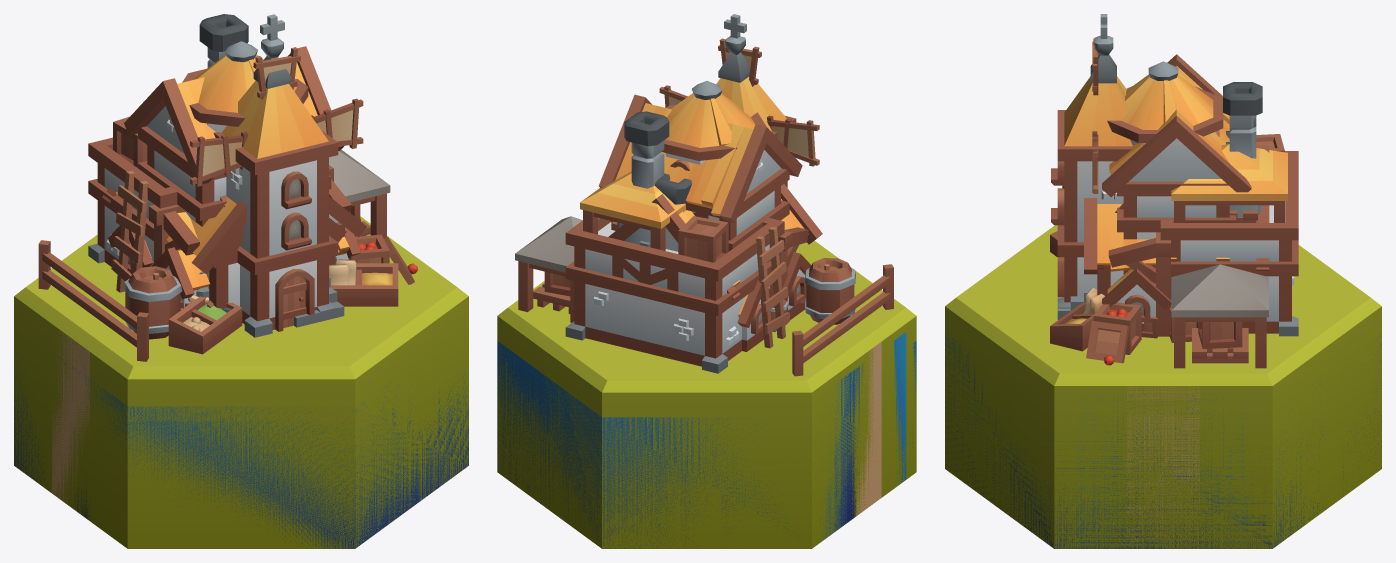
File: hex.glb
3 views of the same model, side by side, from view 1: azimuth 30°, elevation 25°; view 2: azimuth 150°, elevation 25°; view 3: azimuth 270°, elevation 25° (orthographic). The views are drawn at different scales.
Parts seen in each view (by area): view 1: hex_grass, hex_river_A, building_church_yellow, building_market_yellow, hex_water, hex_road_A, building_home_B_yellow, building_windmill_top_fan_yellow, building_windmill_top_yellow, building_home_A_yellow; view 2: hex_grass, hex_river_A, building_market_yellow, hex_water, building_home_B_yellow, building_church_yellow, hex_road_A, building_windmill_top_yellow, building_windmill_top_fan_yellow, building_home_A_yellow; view 3: hex_grass, hex_river_A, building_market_yellow, hex_road_A, building_church_yellow, building_home_B_yellow, hex_water, building_windmill_top_yellow, building_windmill_top_fan_yellow, building_windmill_yellow.
Part boxes in pixels (x1=…): hex_grass: x1=14, y1=218, x2=468, y2=548; hex_river_A: x1=14, y1=235, x2=468, y2=548; building_church_yellow: x1=102, y1=14, x2=366, y2=337; building_market_yellow: x1=38, y1=116, x2=417, y2=361; hex_water: x1=14, y1=356, x2=468, y2=548; hex_road_A: x1=14, y1=216, x2=454, y2=546; building_home_B_yellow: x1=124, y1=14, x2=344, y2=327; building_windmill_top_fan_yellow: x1=190, y1=47, x2=363, y2=186; building_windmill_top_yellow: x1=182, y1=41, x2=308, y2=132; building_home_A_yellow: x1=214, y1=217, x2=346, y2=271; hex_grass: x1=497, y1=240, x2=916, y2=548; hex_river_A: x1=497, y1=241, x2=916, y2=548; building_market_yellow: x1=515, y1=171, x2=893, y2=376; hex_water: x1=497, y1=341, x2=916, y2=548; building_home_B_yellow: x1=599, y1=94, x2=802, y2=251; building_church_yellow: x1=608, y1=14, x2=822, y2=351; hex_road_A: x1=515, y1=245, x2=915, y2=547; building_windmill_top_yellow: x1=662, y1=81, x2=766, y2=171; building_windmill_top_fan_yellow: x1=659, y1=38, x2=819, y2=166; building_home_A_yellow: x1=655, y1=173, x2=692, y2=204; hex_grass: x1=945, y1=225, x2=1381, y2=548; hex_river_A: x1=945, y1=225, x2=1381, y2=548; building_market_yellow: x1=1050, y1=134, x2=1298, y2=368; hex_road_A: x1=959, y1=236, x2=1370, y2=548; building_church_yellow: x1=1051, y1=14, x2=1269, y2=331; building_home_B_yellow: x1=1057, y1=54, x2=1262, y2=319; hex_water: x1=945, y1=332, x2=1381, y2=548; building_windmill_top_yellow: x1=1107, y1=61, x2=1223, y2=145; building_windmill_top_fan_yellow: x1=1092, y1=38, x2=1098, y2=193; building_windmill_yellow: x1=1141, y1=305, x2=1198, y2=342.
Bounding box in the file's own units: 2 × 2.65 × 2.31.
Materials: 1 (1 with a texture image).
